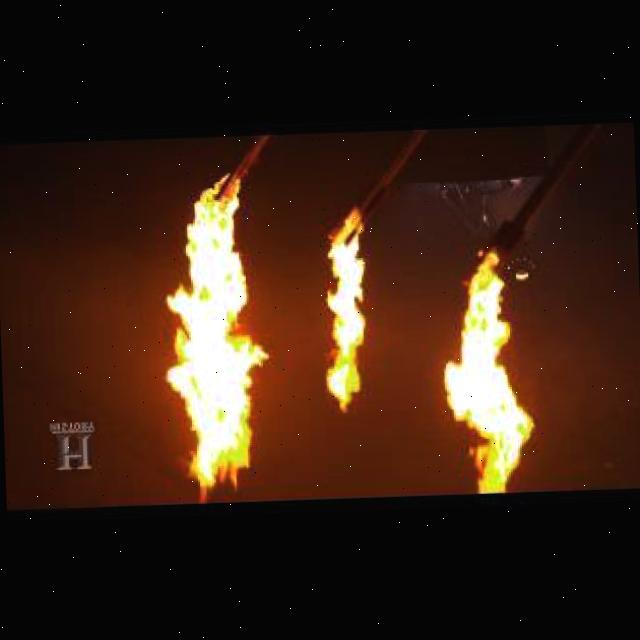fire: (164, 203, 264, 489), (450, 255, 537, 490), (315, 222, 372, 406)
